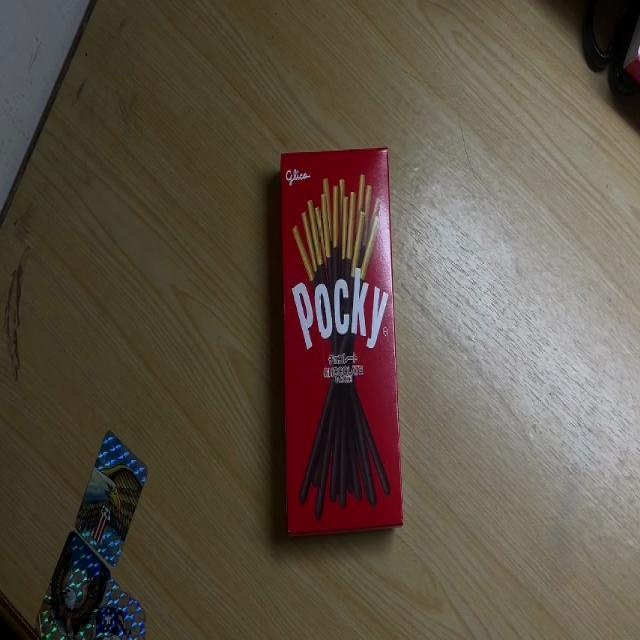Pocky: (279, 147, 404, 533)
